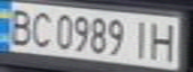0: (51, 10, 75, 52)
8: (87, 15, 109, 56)
9: (69, 12, 93, 53), (106, 16, 130, 57)
B: (3, 4, 36, 46)
C: (27, 8, 57, 48)
H: (145, 19, 184, 62)
I: (127, 18, 157, 61)
